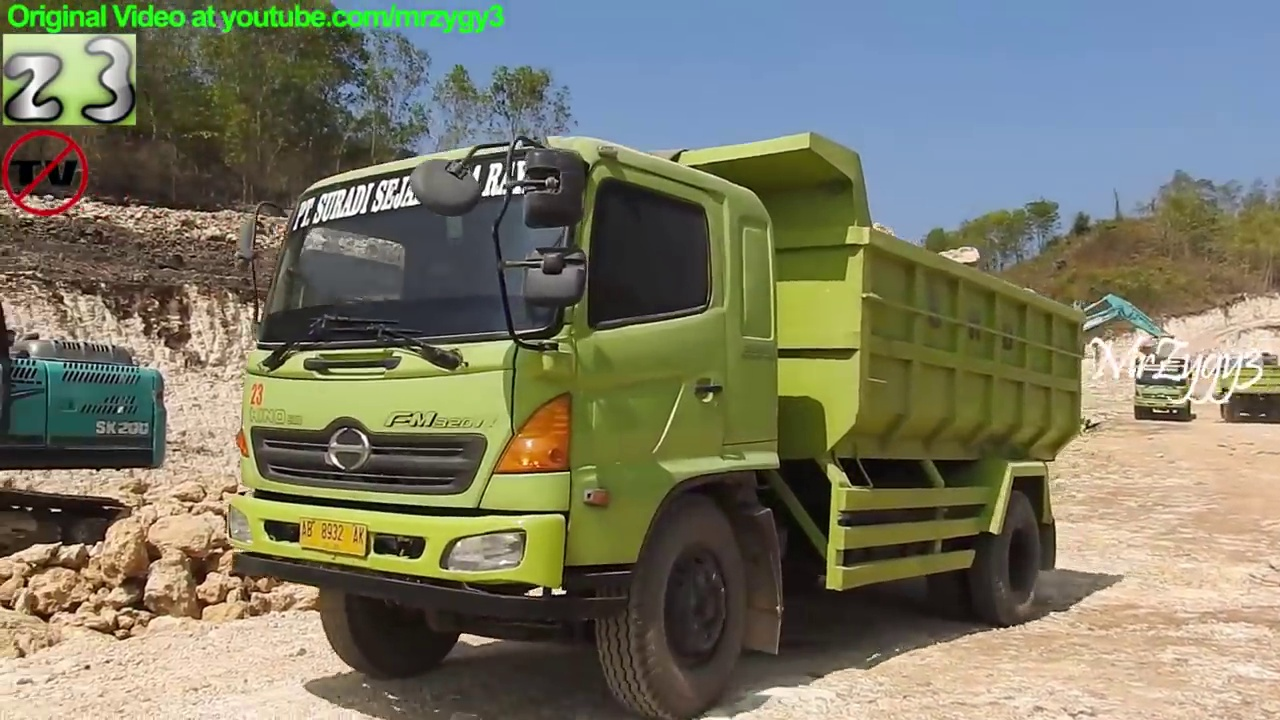excavator: (1, 294, 169, 569), (982, 289, 1175, 445)
truck: (223, 127, 1090, 720), (1213, 348, 1280, 427), (1129, 351, 1195, 423)
